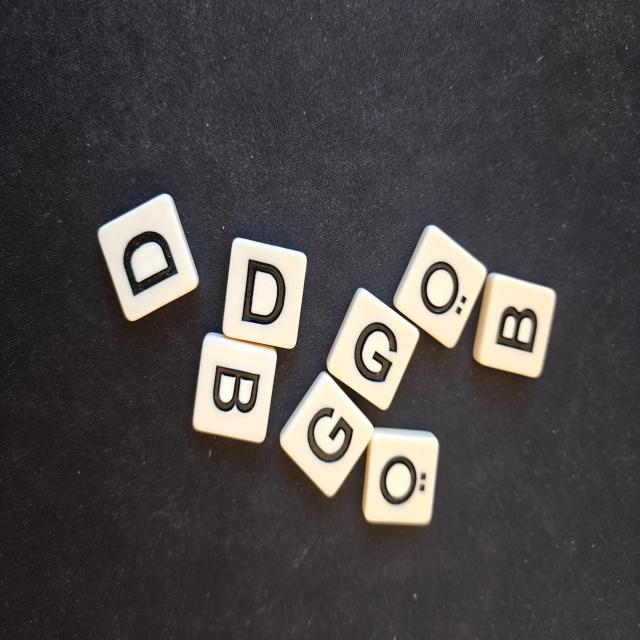b: (193, 333, 277, 442), (473, 273, 556, 378)
d: (98, 194, 198, 321), (223, 238, 307, 348)
g: (280, 372, 373, 497), (327, 288, 419, 410)
o_dot: (393, 225, 486, 348), (362, 428, 439, 525)
